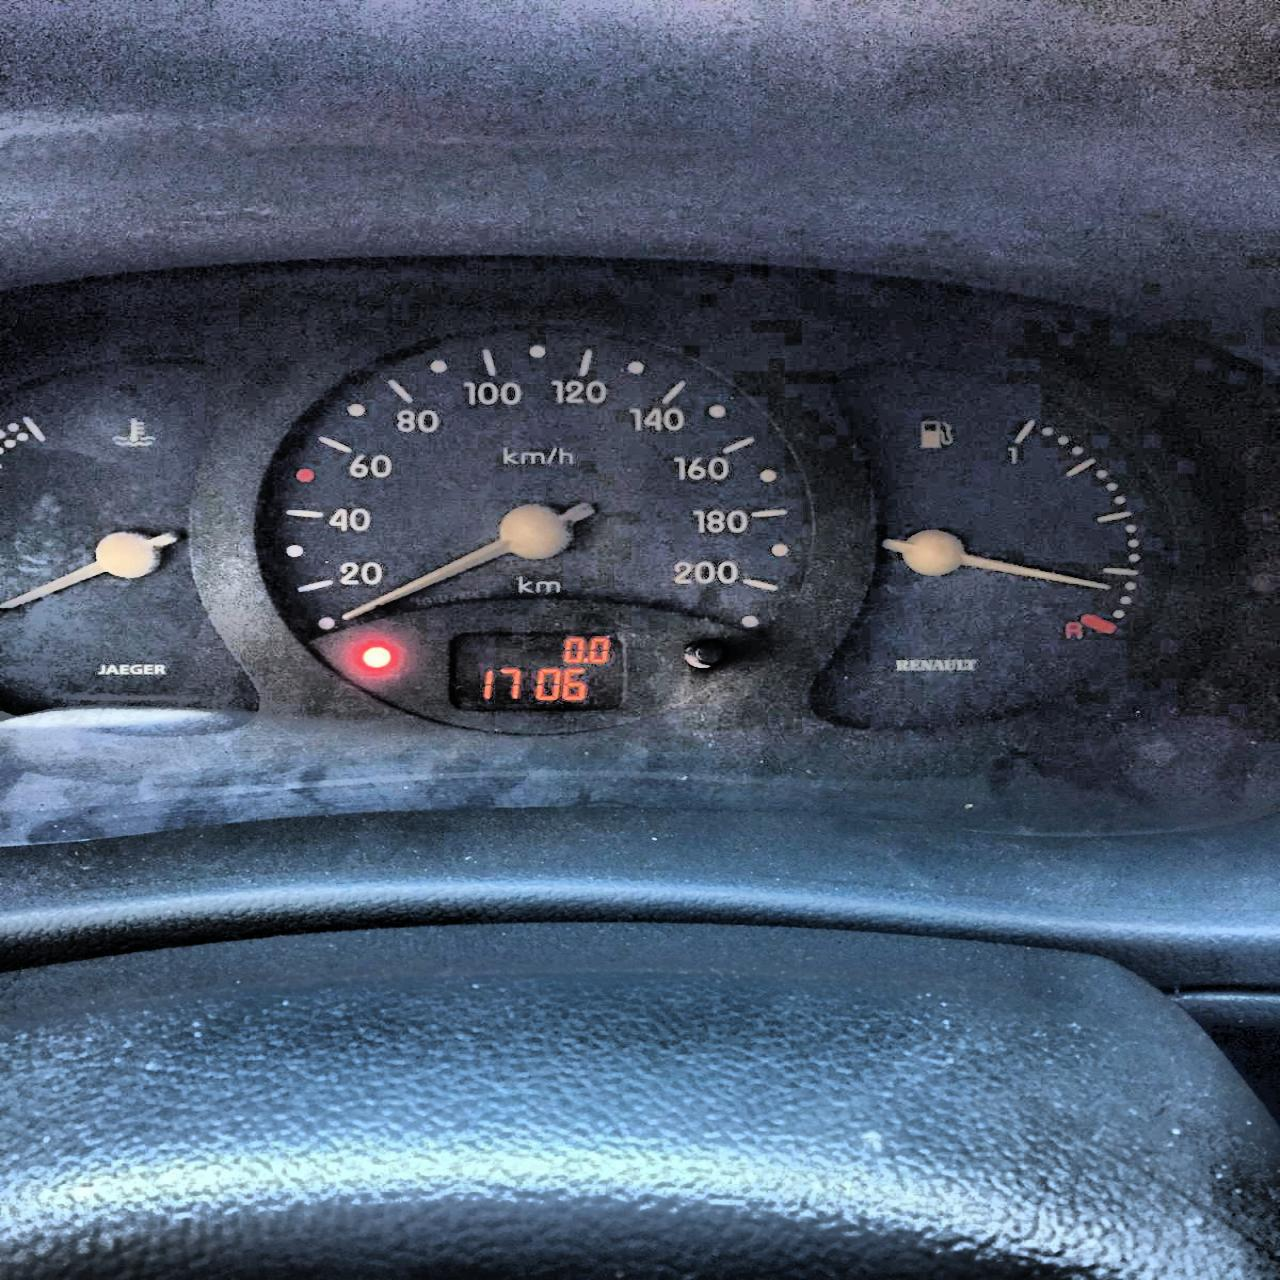-: (583, 658, 587, 662)
0: (536, 668, 560, 700), (563, 636, 584, 662), (587, 636, 608, 662)
1: (483, 669, 492, 699)
6: (561, 668, 585, 699)
7: (498, 668, 519, 699)
odometer: (444, 628, 628, 714)
